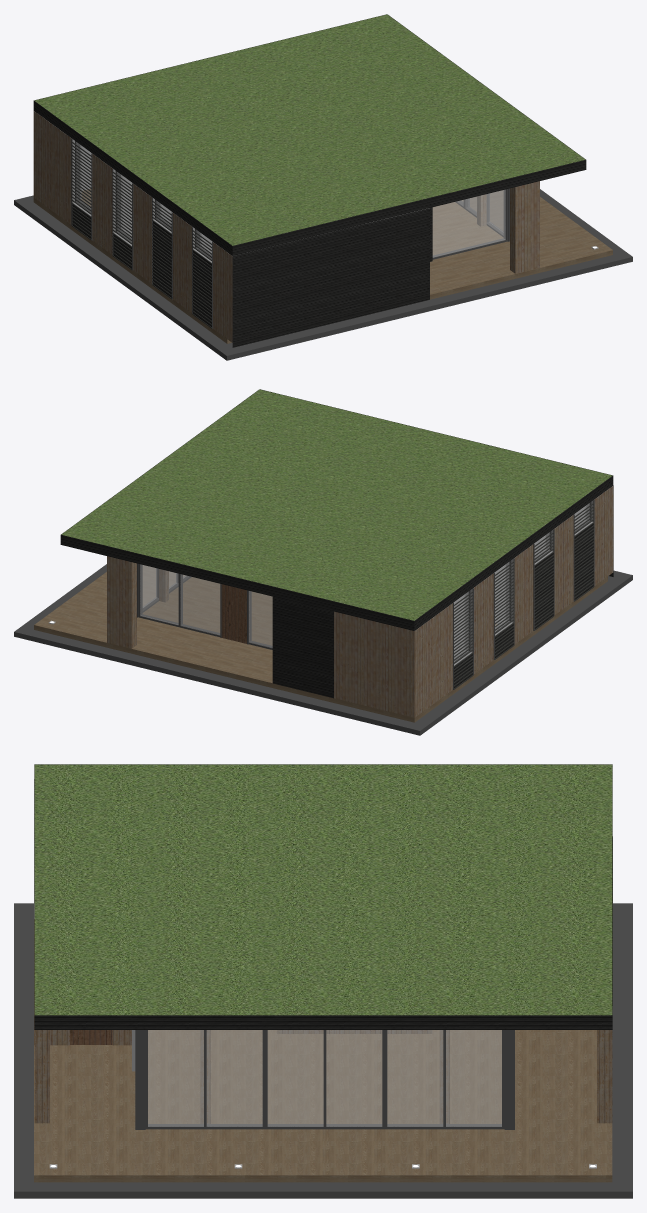
File: Module1+2.glb
3 views of the same model, one above another, from view 1: azimuth 30°, elevation 25°; view 2: azimuth 150°, elevation 25°; view 3: azimuth 270°, elevation 25° (orthographic). The views are drawn at different scales.
Visible parts, largest first — view 1: Трава, Отделка перекрытия, Черный, Пол отделка светлая, Новый материал (по умолчанию), Стекло, Сталь ASTM A36, Деревянная отделка светлая, Штукатурка, Стена по умолчанию; view 2: Трава, Новый материал (по умолчанию), Отделка перекрытия, Пол отделка светлая, Черный, Стекло, Сталь ASTM A36, Деревянная отделка светлая, Отделка дверей, Штукатурка, Стена по умолчанию; view 3: Трава, Пол отделка светлая, Стекло, Черный, Отделка перекрытия, Деревянная отделка светлая, Отделка дверей.
Boxes of the visible parts, <box> form: Трава: <box>34,14,585,245</box>; Отделка перекрытия: <box>33,14,586,347</box>; Черный: <box>14,139,632,360</box>; Пол отделка светлая: <box>33,189,612,343</box>; Новый материал (по умолчанию): <box>33,111,232,342</box>; Стекло: <box>77,143,505,258</box>; Сталь ASTM A36: <box>72,141,211,328</box>; Деревянная отделка светлая: <box>477,181,539,273</box>; Штукатурка: <box>81,146,211,252</box>; Стена по умолчанию: <box>34,111,429,262</box>; Трава: <box>61,389,612,620</box>; Новый материал (по умолчанию): <box>334,486,613,717</box>; Отделка перекрытия: <box>60,389,613,698</box>; Пол отделка светлая: <box>34,565,607,722</box>; Черный: <box>14,500,632,735</box>; Стекло: <box>140,503,589,661</box>; Сталь ASTM A36: <box>454,503,593,689</box>; Деревянная отделка светлая: <box>107,556,168,648</box>; Отделка дверей: <box>221,584,246,643</box>; Штукатурка: <box>454,507,584,655</box>; Стена по умолчанию: <box>418,486,612,665</box>; Трава: <box>34,764,612,1015</box>; Пол отделка светлая: <box>34,1030,612,1182</box>; Стекло: <box>148,1030,501,1126</box>; Черный: <box>14,903,632,1198</box>; Отделка перекрытия: <box>34,764,612,1029</box>; Деревянная отделка светлая: <box>34,919,612,1123</box>; Отделка дверей: <box>70,1030,112,1044</box>.
Size of the model in its own units: 13.22 by 3.31 by 12.
Materials: 13 (8 with a texture image).
